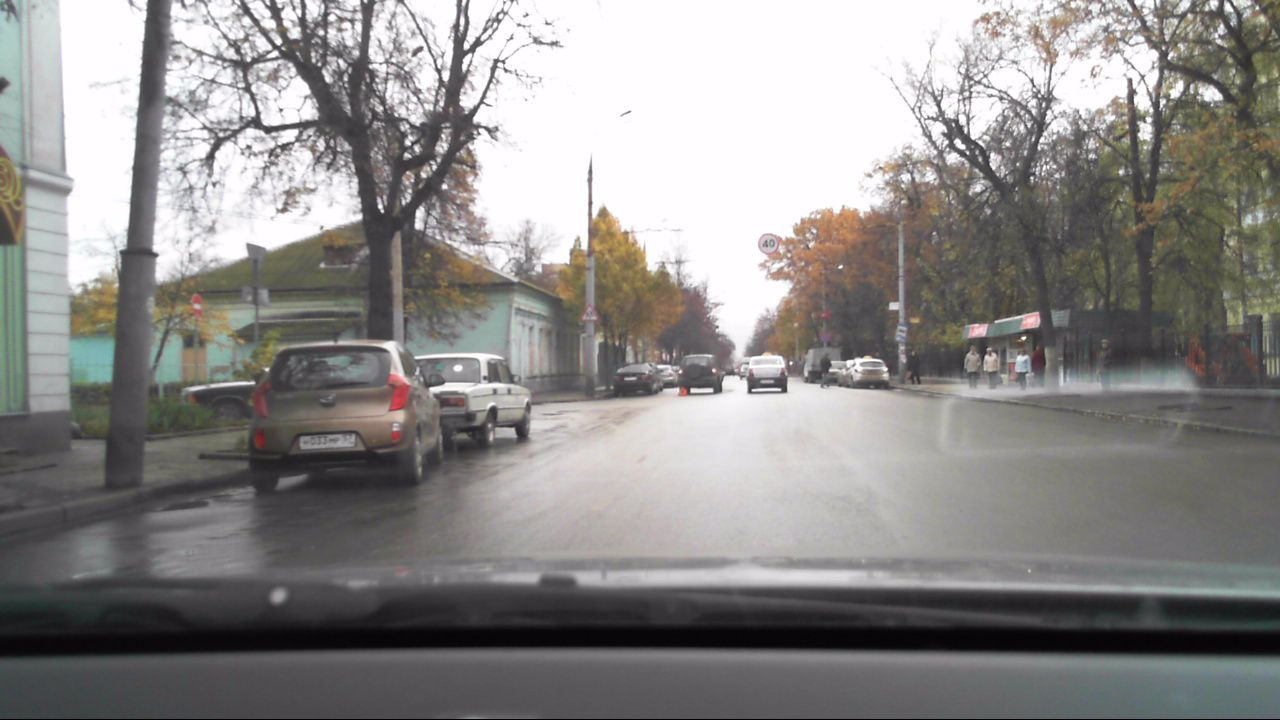speed_warning_40: (759, 233, 782, 255)
